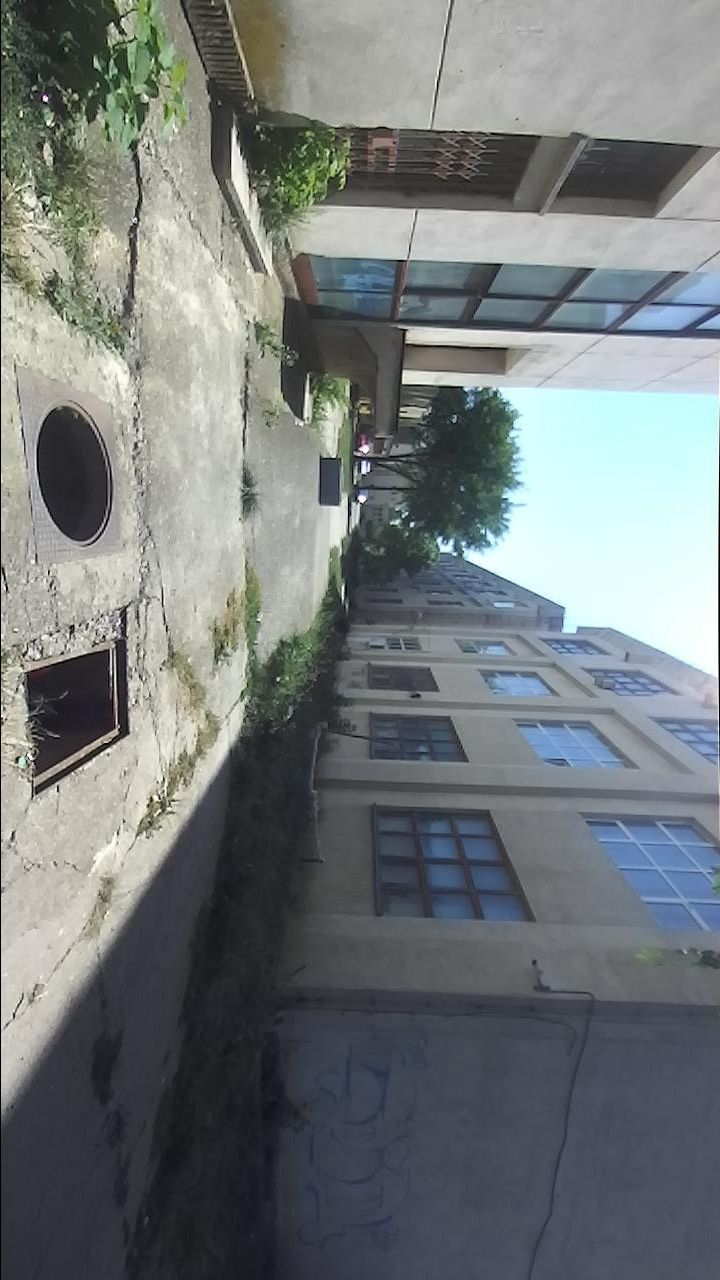drain: (23, 635, 138, 807), (34, 393, 120, 553)
